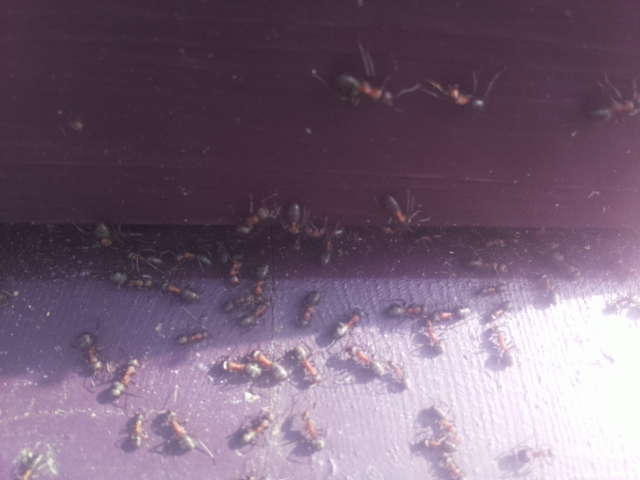ant: (329, 60, 396, 120), (423, 73, 486, 118), (375, 186, 431, 233), (227, 198, 286, 241), (105, 351, 148, 407), (230, 408, 283, 451), (582, 90, 640, 128), (491, 443, 552, 479), (74, 325, 110, 384), (160, 408, 203, 455), (340, 342, 392, 379), (326, 303, 371, 344), (290, 339, 325, 391), (317, 217, 348, 273), (292, 282, 326, 331), (248, 347, 293, 382), (153, 278, 205, 307), (235, 297, 272, 333), (298, 409, 328, 452), (219, 355, 268, 381), (284, 199, 306, 253), (125, 409, 152, 452), (9, 450, 44, 480), (380, 300, 427, 322), (421, 319, 445, 360), (487, 328, 512, 365), (176, 327, 210, 347), (252, 263, 270, 300)
